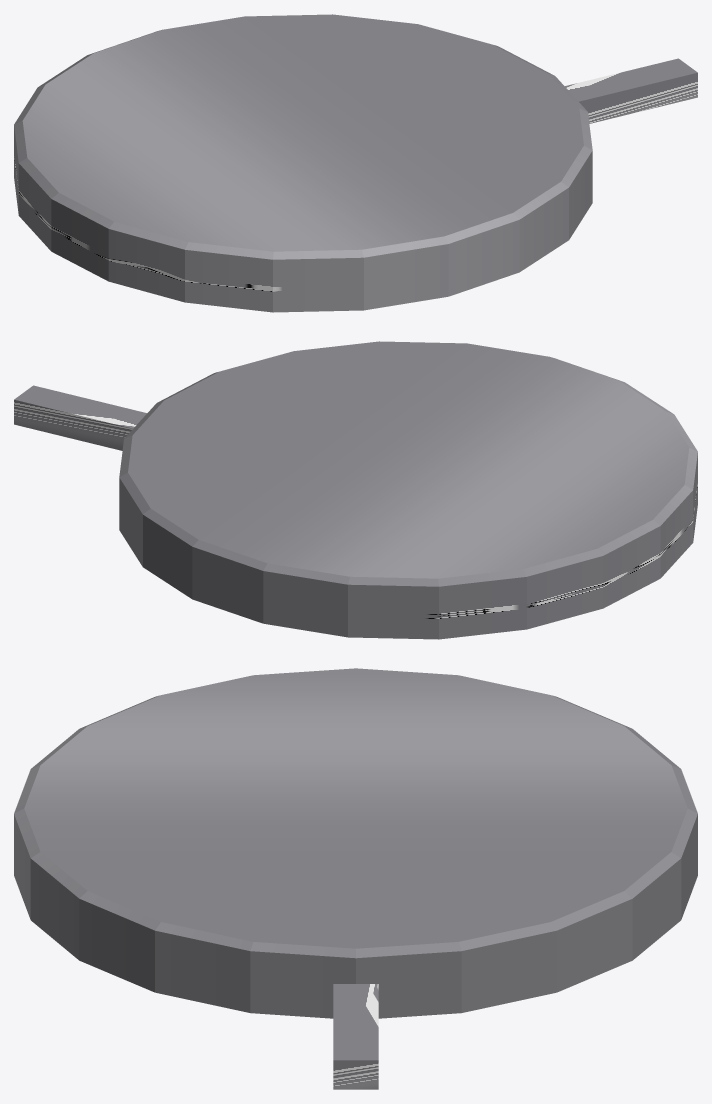
File: pan_large.obj
3 views of the same model, one above another, from view 1: azimuth 30°, elevation 25°; view 2: azimuth 150°, elevation 25°; view 3: azimuth 270°, elevation 25° (orthographic). The views are drawn at different scales.
Visible parts, largest first — view 1: pan_large; view 2: pan_large; view 3: pan_large.
Part boxes in pixels (x1,y1,x2,y2): pan_large: (14, 14, 697, 312); pan_large: (14, 341, 697, 639); pan_large: (14, 668, 697, 1089).
Bounding box in the file's own units: 0.455 × 0.043 × 0.36.
1 material, 1 textured.
